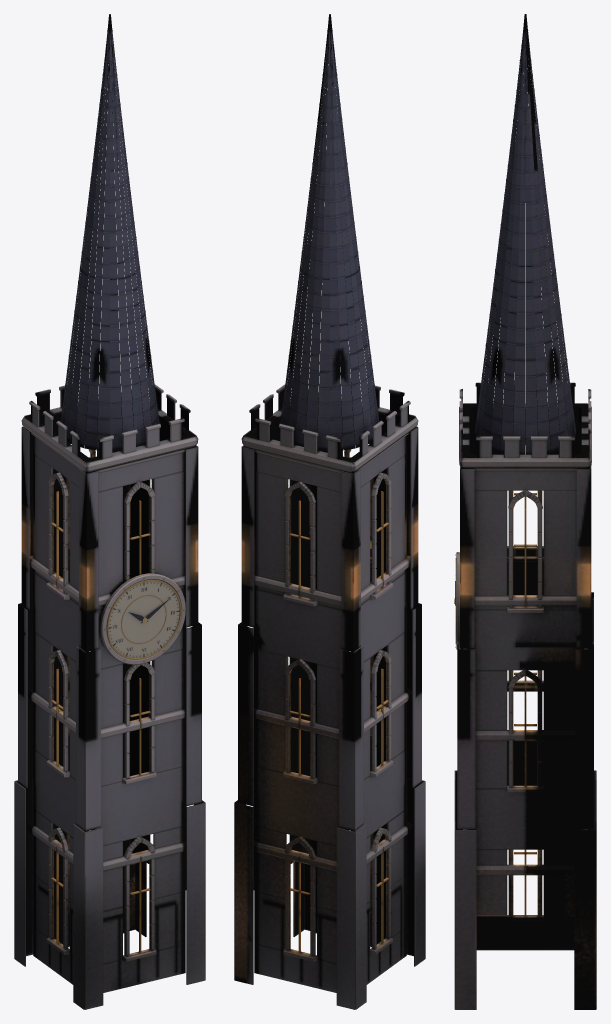
Rendered from clocktower-smooth-v7.glb.
The picture shows the model from 3 angles, left to right: view 1: azimuth 30°, elevation 25°; view 2: azimuth 150°, elevation 25°; view 3: azimuth 270°, elevation 25°; orthographic projection.
Parts seen in each view (by area): view 1: clocktower_skin_receiver.001, clock_face_receiver.001; view 2: clocktower_skin_receiver.001; view 3: clocktower_skin_receiver.001, clock_face_receiver.001.
Boxes of the visible parts, box(x1,y1,x2,y2) form: clocktower_skin_receiver.001: box(14, 14, 205, 1009); clock_face_receiver.001: box(100, 573, 185, 664); clocktower_skin_receiver.001: box(234, 14, 425, 1009); clocktower_skin_receiver.001: box(454, 14, 596, 1009); clock_face_receiver.001: box(454, 552, 460, 649).
Size of the model in its own units: 6.46 by 48.43 by 6.46.
2 materials, 2 textured.
